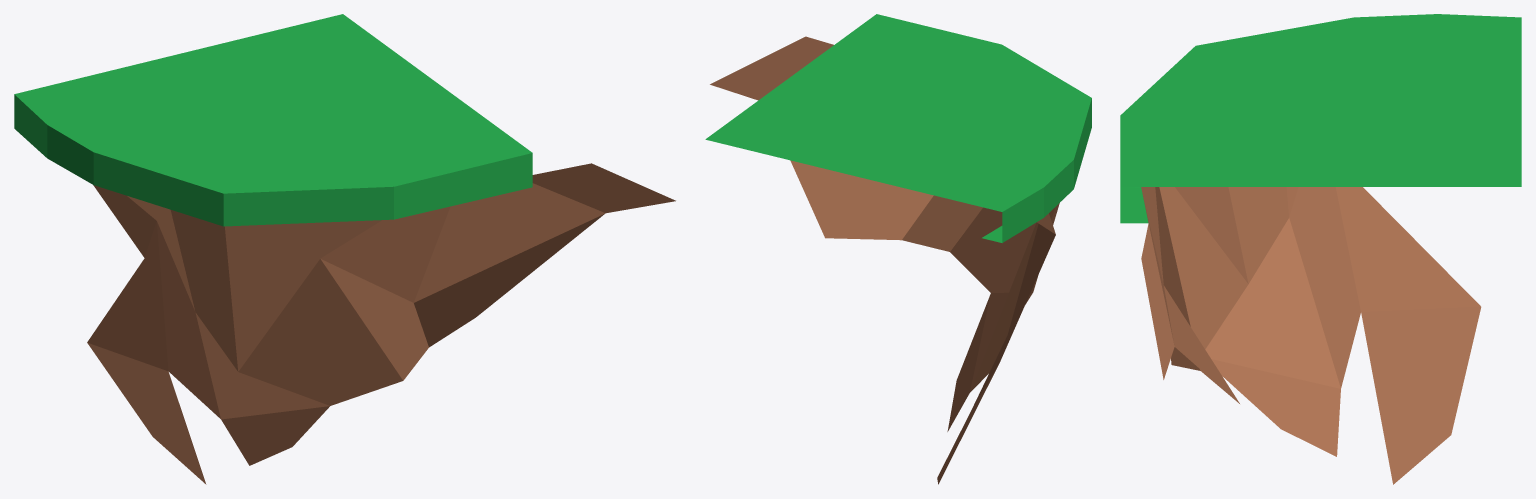
The model's file is Corner Top E.fbx.
The picture shows the model from 3 angles, left to right: view 1: azimuth 30°, elevation 25°; view 2: azimuth 150°, elevation 25°; view 3: azimuth 270°, elevation 25°; orthographic projection. The views are drawn at different scales.
Visible parts, largest first — view 1: Corner Top E; view 2: Corner Top E; view 3: Corner Top E.
Boxes of the visible parts, <box> form: Corner Top E: <box>14,14,675,484</box>; Corner Top E: <box>705,14,1091,484</box>; Corner Top E: <box>1120,14,1521,484</box>.
Bounding box in the file's own units: 76.01 × 55 × 50.
